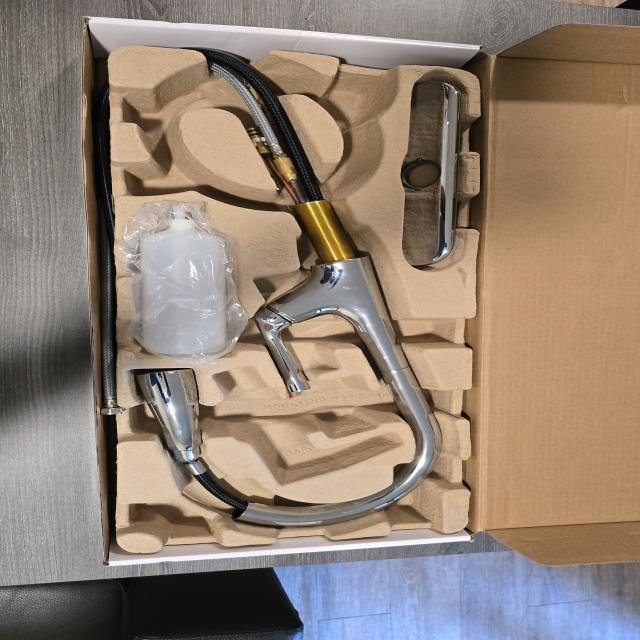1: (136, 47, 446, 526)
2m: (214, 366, 399, 484)
3: (136, 201, 248, 357)
4: (398, 81, 459, 265)
5m: (322, 78, 391, 123)
6m: (123, 79, 210, 137)
7m: (126, 147, 234, 195)
